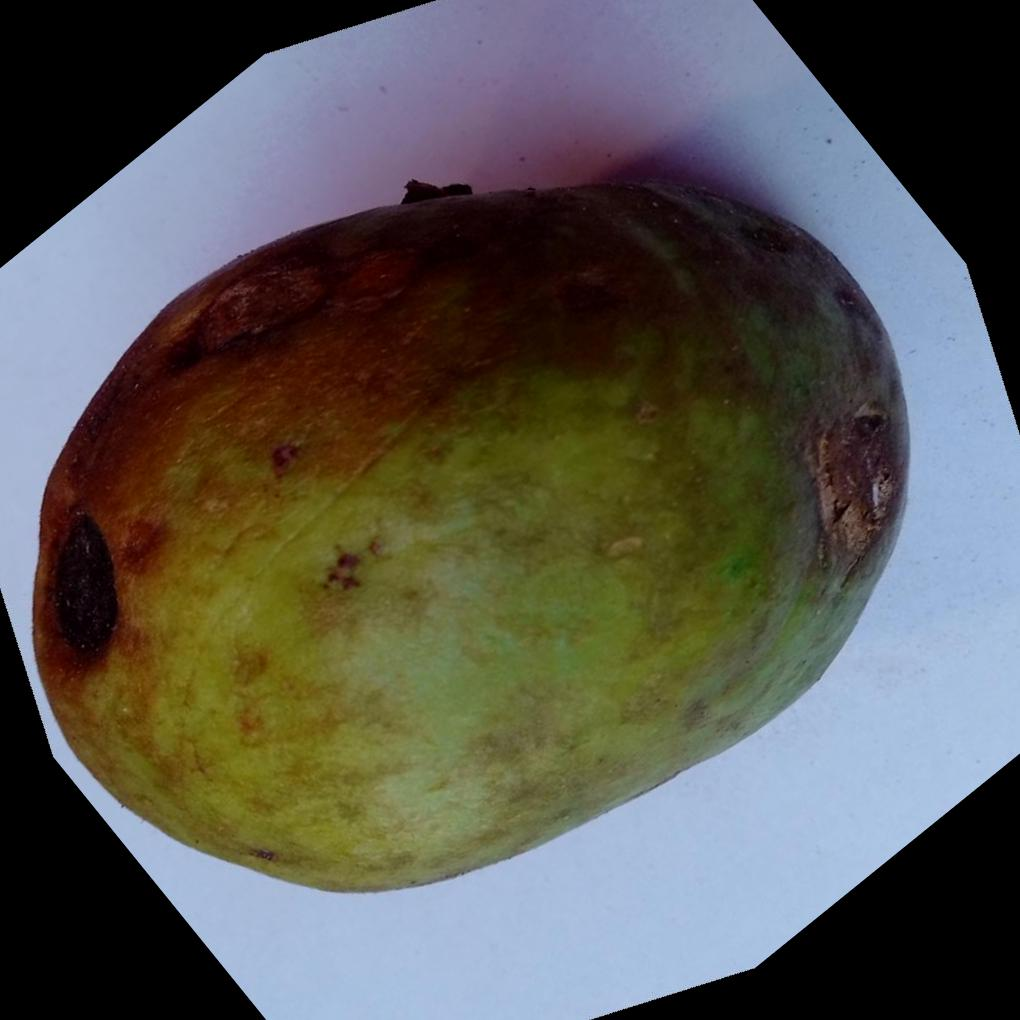FreshOrange: (30, 176, 915, 893)
